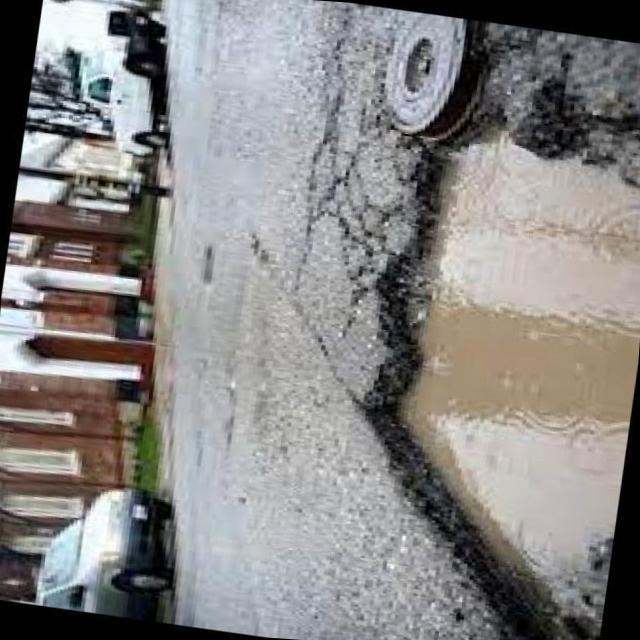pothole: (355, 85, 640, 640)
